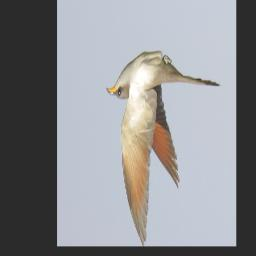Cuckoo: (106, 53, 220, 245)
